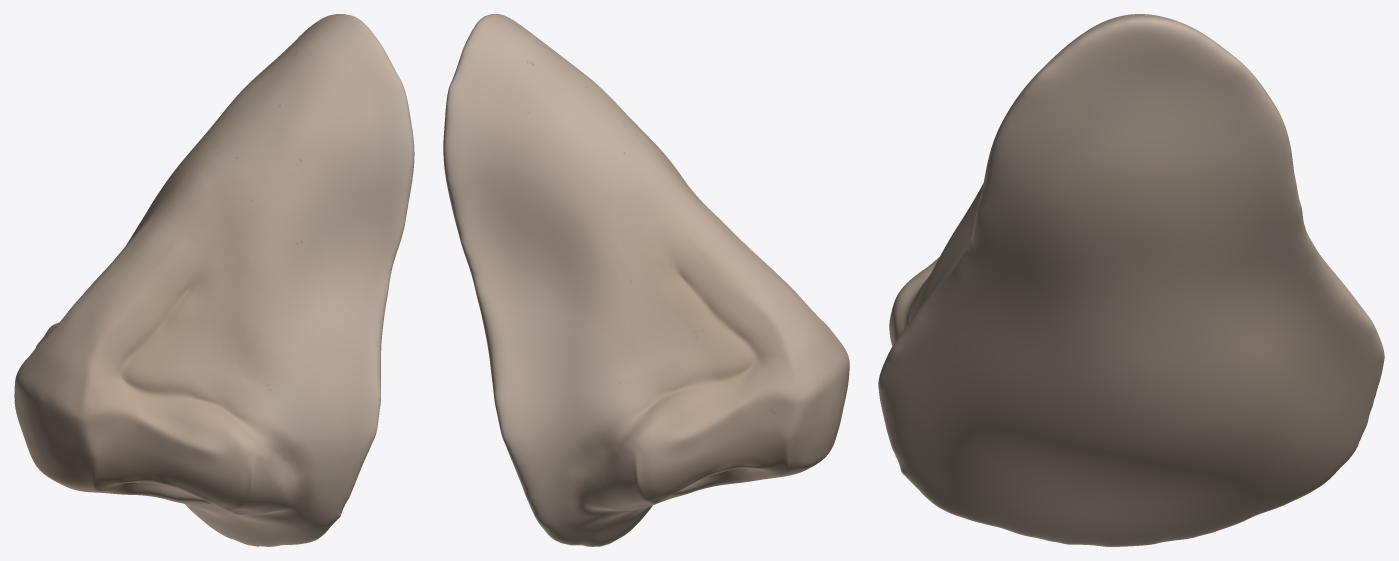
File: sphinx_nose_scale.glb
3 views of the same model, side by side, from view 1: azimuth 30°, elevation 25°; view 2: azimuth 150°, elevation 25°; view 3: azimuth 270°, elevation 25° (orthographic). The views are drawn at different scales.
Parts seen in each view (by area): view 1: Nose_Skin_0.001, Nose, Nose_Skin_0.002, Nose_Skin_0.003; view 2: Nose_Skin_0.001, Nose_Skin_0.002, Nose, Nose_Skin_0.003; view 3: Nose, Nose_Skin_0.002, Nose_Skin_0.001, Nose_Skin_0.003.
Part boxes in pixels (box(x1,y1,x2,y2)): Nose_Skin_0.001: box(14, 14, 414, 515); Nose: box(185, 14, 414, 546); Nose_Skin_0.002: box(14, 14, 399, 527); Nose_Skin_0.003: box(145, 25, 381, 546); Nose_Skin_0.001: box(465, 14, 849, 510); Nose_Skin_0.002: box(444, 15, 849, 545); Nose: box(443, 14, 673, 546); Nose_Skin_0.003: box(491, 14, 743, 523); Nose: box(879, 14, 1384, 545); Nose_Skin_0.002: box(890, 14, 1383, 546); Nose_Skin_0.001: box(889, 16, 1374, 362); Nose_Skin_0.003: box(878, 14, 1142, 546).
Size of the model in its own units: 0.8436 by 1.12 by 0.8323.
